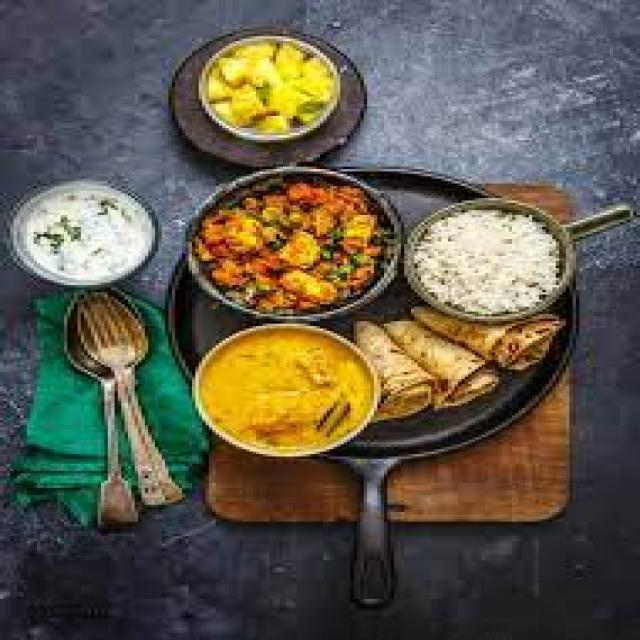curd: (2, 175, 166, 289)
dal: (189, 328, 365, 444)
raita: (6, 179, 165, 284)
rice: (400, 204, 578, 315)
veg-fry: (196, 40, 345, 143)
